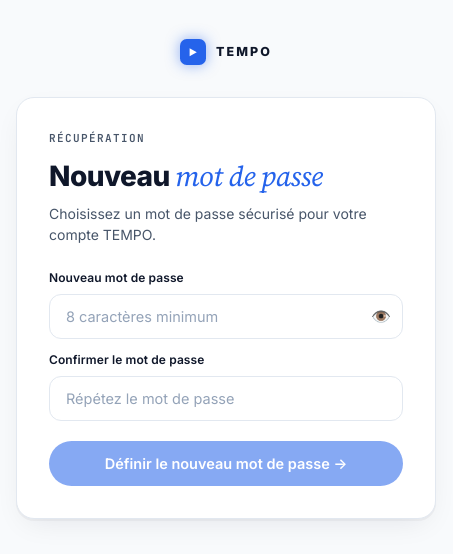
Test: ResetPassword › Indicateur de force du mot de passe › affiche "Moyen" pour 8-9 chars
Type "Abcde123" into the password field labelled "Nouveau mot de passe".
click(226, 316); type("Abcde123")  # box [49, 294, 403, 339]
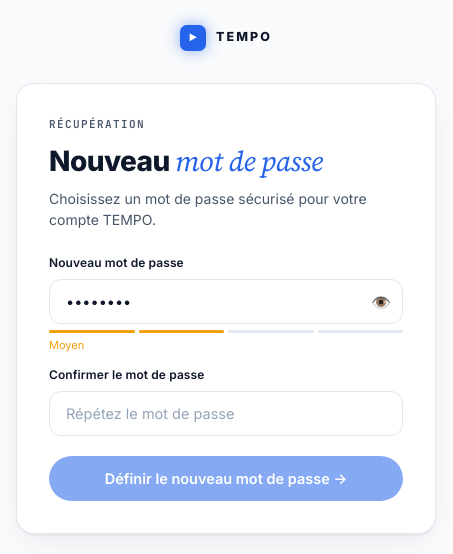
expect the text "Moyen" is shown: met, box [49, 338, 84, 352]
